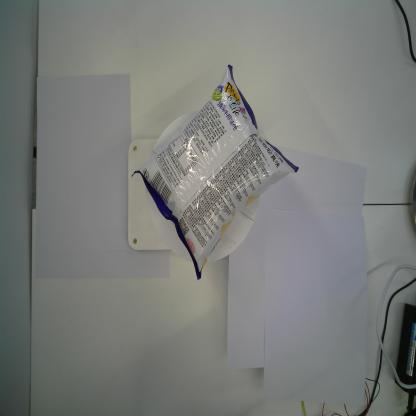Puffed Food: (131, 63, 301, 284)
